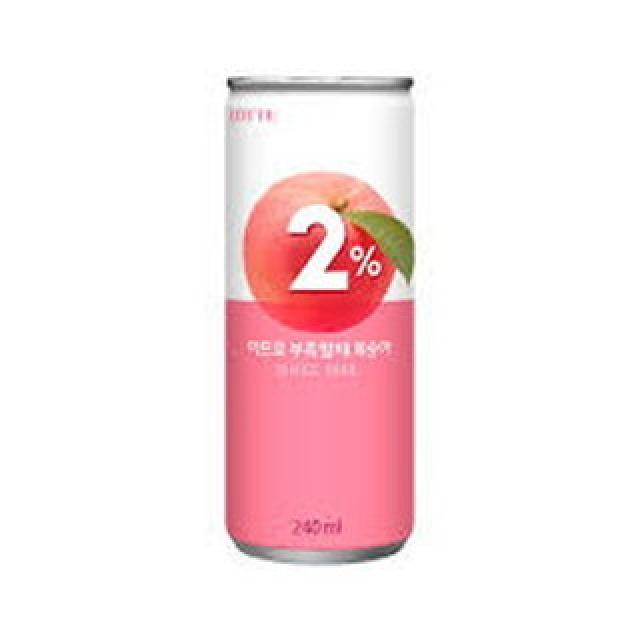can: (214, 53, 428, 570)
